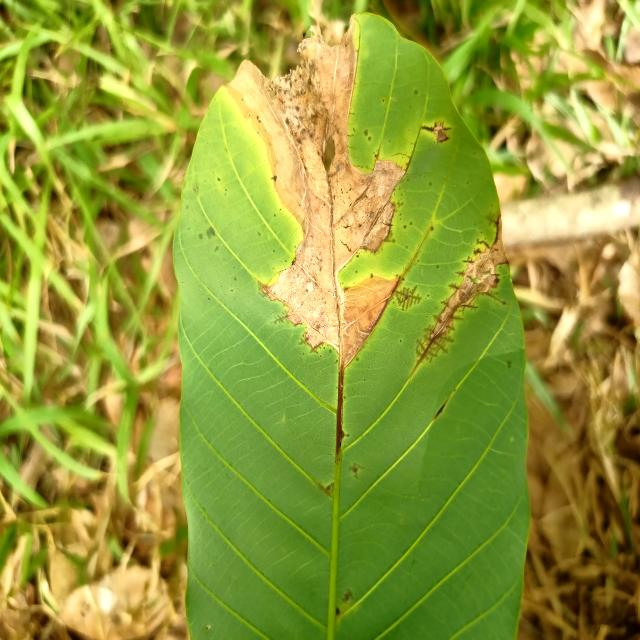Corynespora: (409, 213, 508, 376), (334, 367, 346, 463), (420, 120, 452, 146), (395, 286, 422, 312), (298, 336, 323, 356), (272, 312, 290, 326)
Leaf-Blight: (225, 14, 407, 368)
